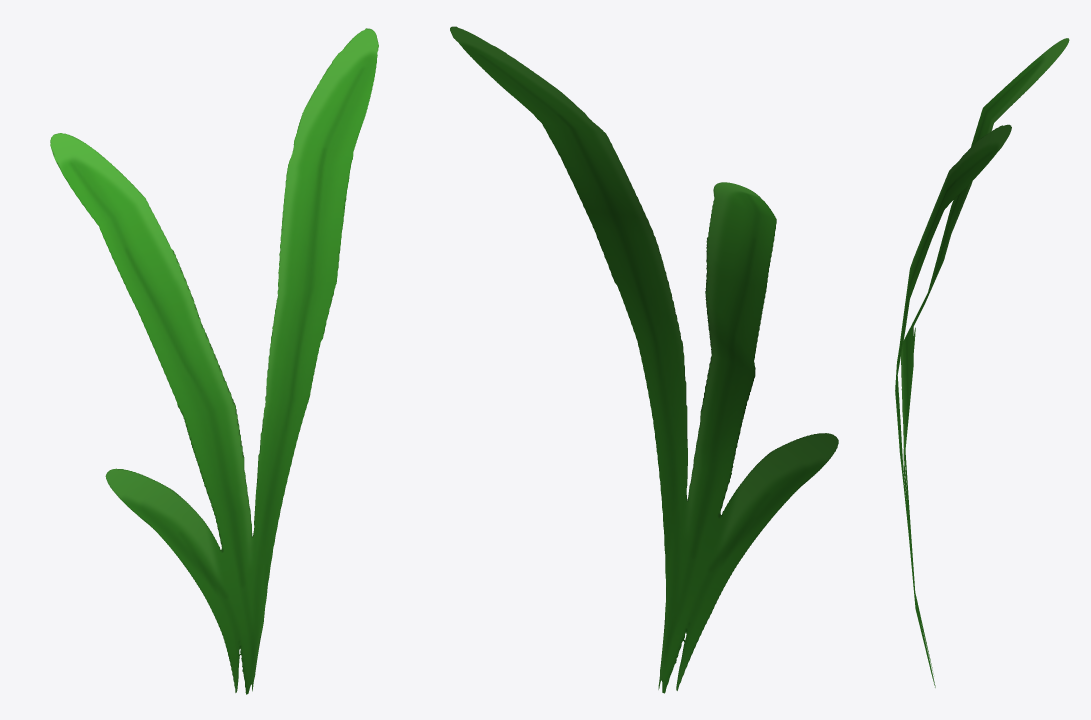
The model's file is sm_env_grass_4.fbx.
The picture shows the model from 3 angles, left to right: view 1: azimuth 30°, elevation 25°; view 2: azimuth 150°, elevation 25°; view 3: azimuth 270°, elevation 25°; orthographic projection. The views are drawn at different scales.
Visible parts, largest first — view 1: grass_4; view 2: grass_4; view 3: grass_4.
Boxes of the visible parts, left/top/right/bottom form: grass_4: left=50, top=28, right=378, bottom=694; grass_4: left=450, top=26, right=838, bottom=693; grass_4: left=895, top=38, right=1069, bottom=687.
Bounding box in the file's own units: 18.97 × 30.83 × 7.87.
